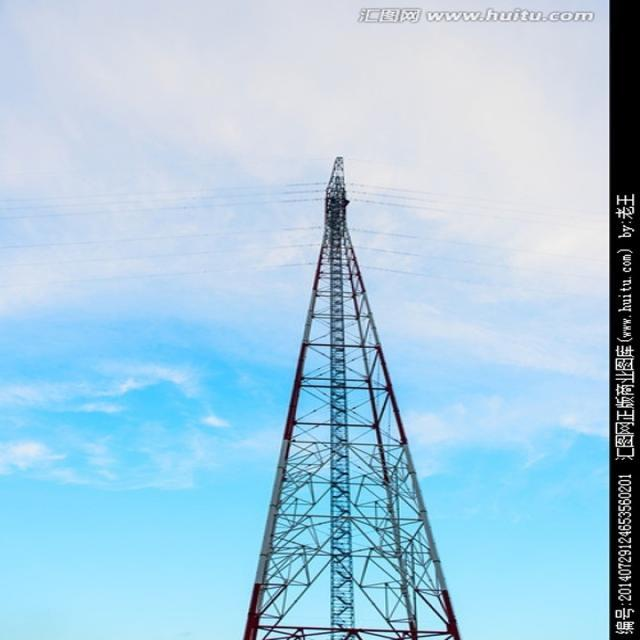non-critical vegetation: (257, 157, 465, 636)
